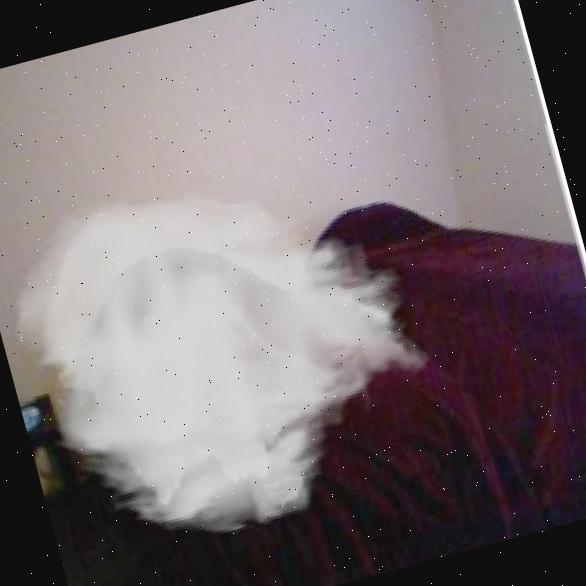smoke: (0, 126, 464, 578)
